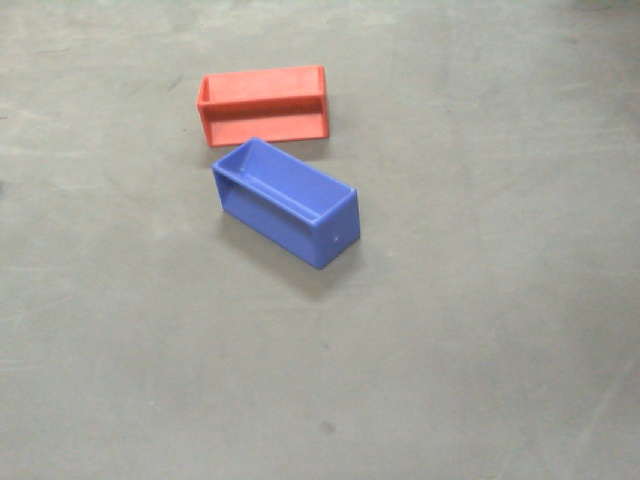BlueSample: (212, 138, 361, 270)
RedSample: (196, 62, 329, 149)
